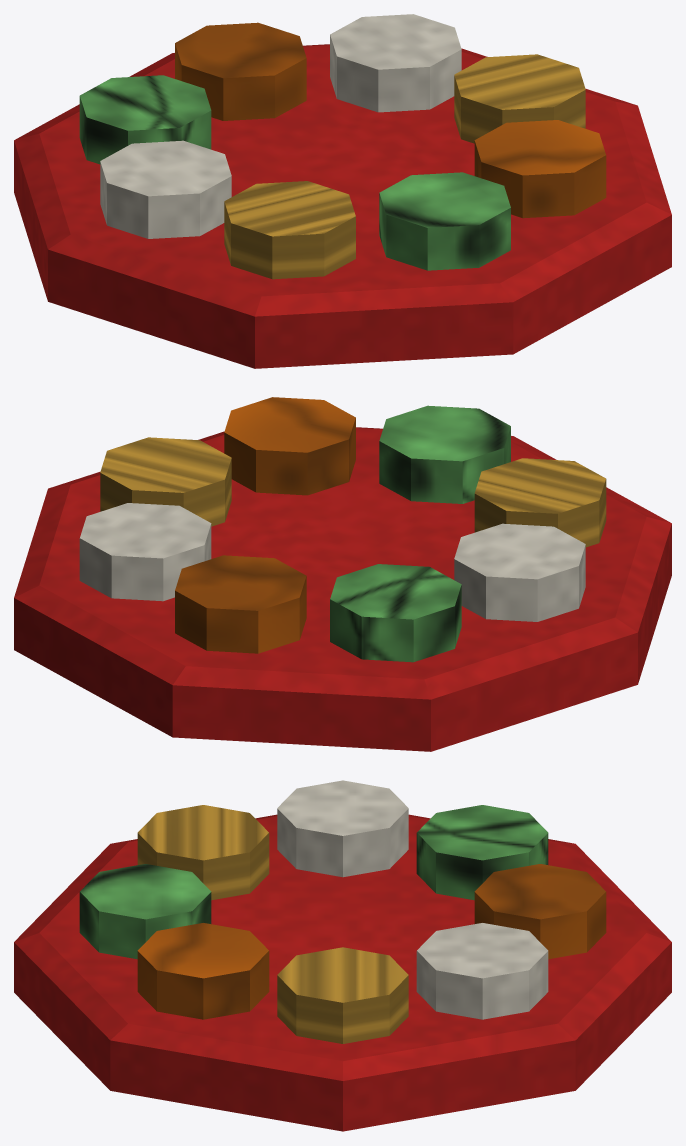
Rendered from candy_box.fbx.
The picture shows the model from 3 angles, top to bottom: view 1: azimuth 30°, elevation 25°; view 2: azimuth 150°, elevation 25°; view 3: azimuth 270°, elevation 25°; orthographic projection. The views are drawn at different scales.
Visible parts, largest first — view 1: candy_box; view 2: candy_box; view 3: candy_box.
Boxes of the visible parts, x1,y1,x2,y2 form: candy_box: [14, 14, 671, 368]; candy_box: [14, 397, 671, 751]; candy_box: [14, 780, 671, 1131].
Bounding box in the file's own units: 26 × 5.2 × 26.
